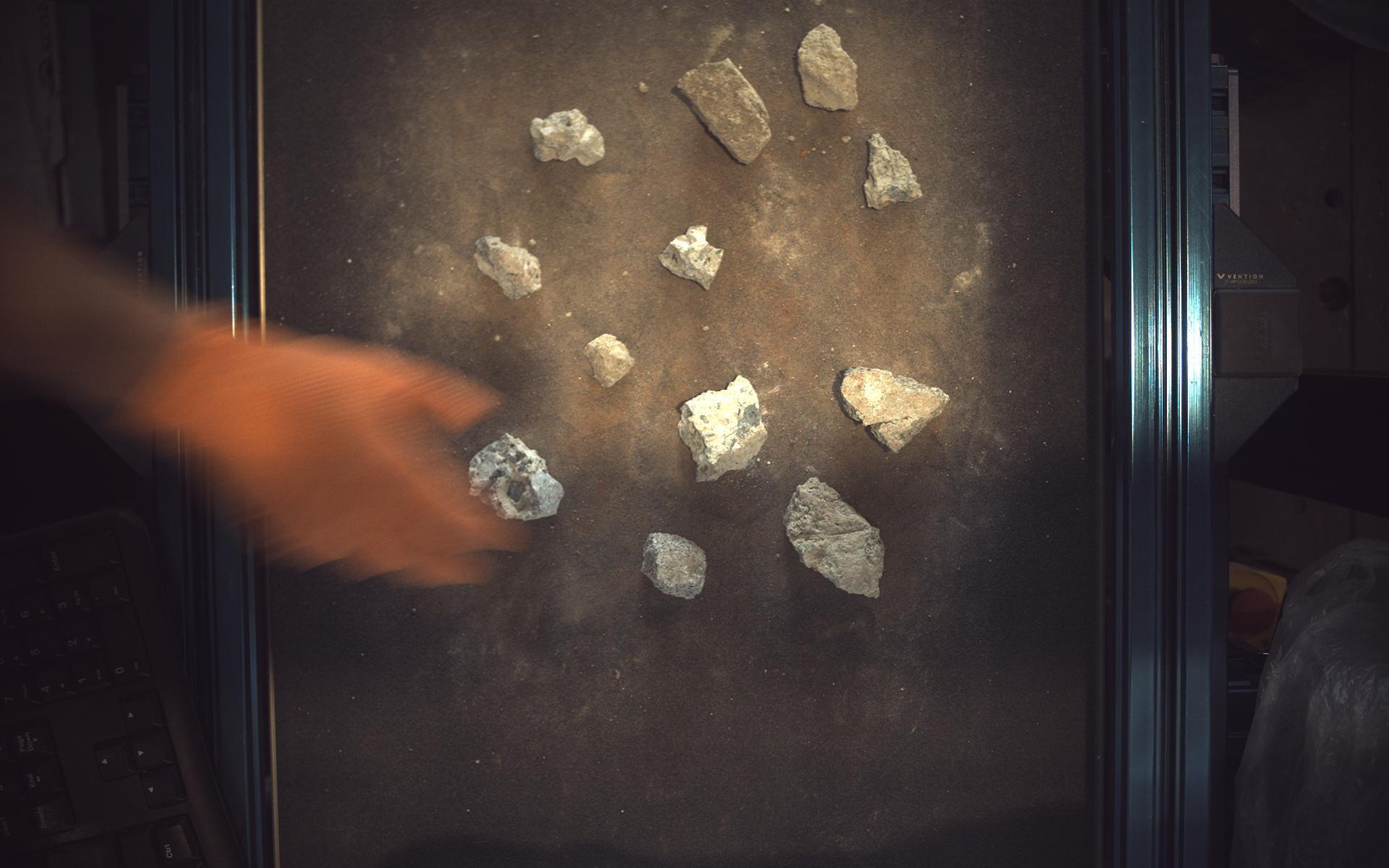concrete: (785, 477, 886, 599), (679, 57, 773, 163), (679, 375, 768, 482), (841, 367, 951, 453), (469, 433, 564, 521), (799, 22, 859, 110), (865, 132, 925, 208), (474, 235, 542, 299), (643, 535, 708, 600), (531, 108, 604, 165), (660, 225, 725, 289), (585, 333, 636, 388)
